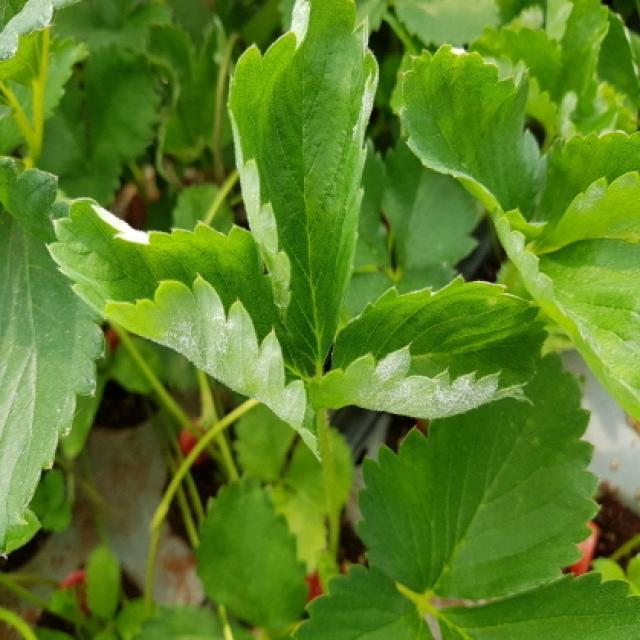powdery_mildew_leaf: (44, 198, 322, 464), (225, 0, 379, 374), (310, 271, 552, 419)
